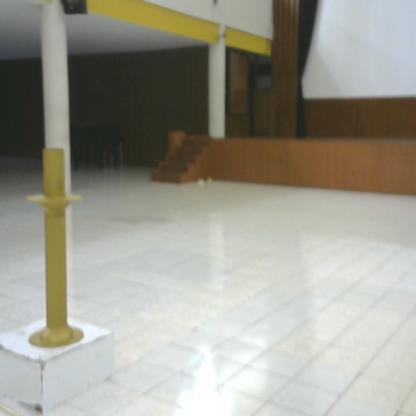pole: (25, 141, 91, 354)
